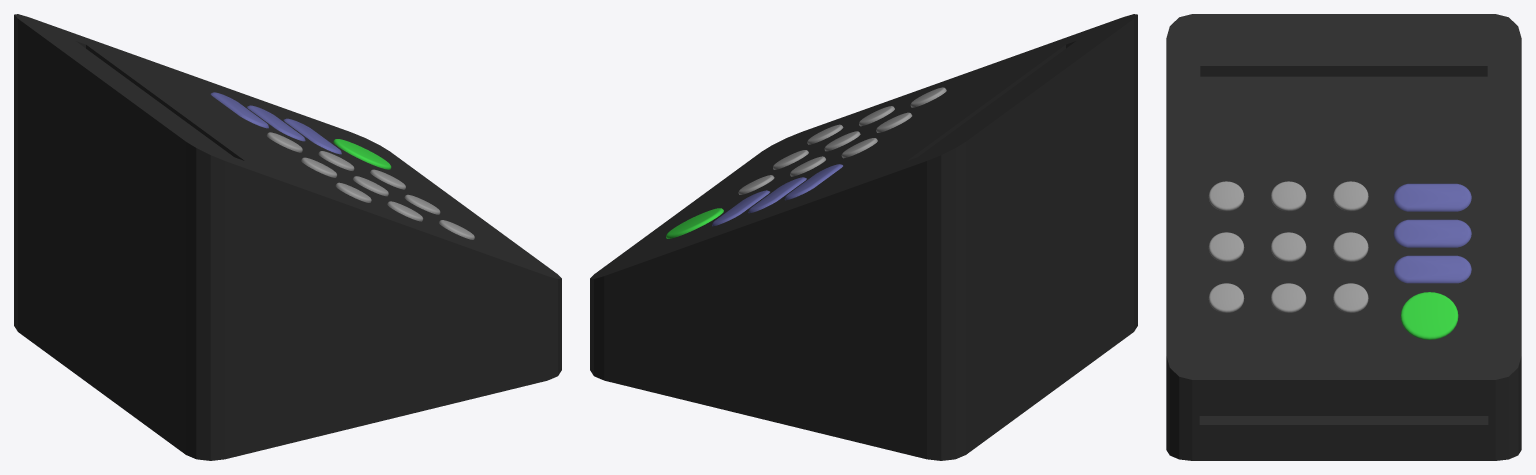
The model's file is Fax.fbx.
The picture shows the model from 3 angles, left to right: view 1: azimuth 30°, elevation 25°; view 2: azimuth 150°, elevation 25°; view 3: azimuth 270°, elevation 25°; orthographic projection. The views are drawn at different scales.
Visible parts, largest first — view 1: Cube; view 2: Cube; view 3: Cube.
Boxes of the visible parts, box(x1,y1,x2,y2) form: Cube: box(14, 14, 561, 460); Cube: box(590, 14, 1137, 460); Cube: box(1166, 14, 1521, 460).
Bounding box in the file's own units: 44.92 × 36.14 × 41.12.
